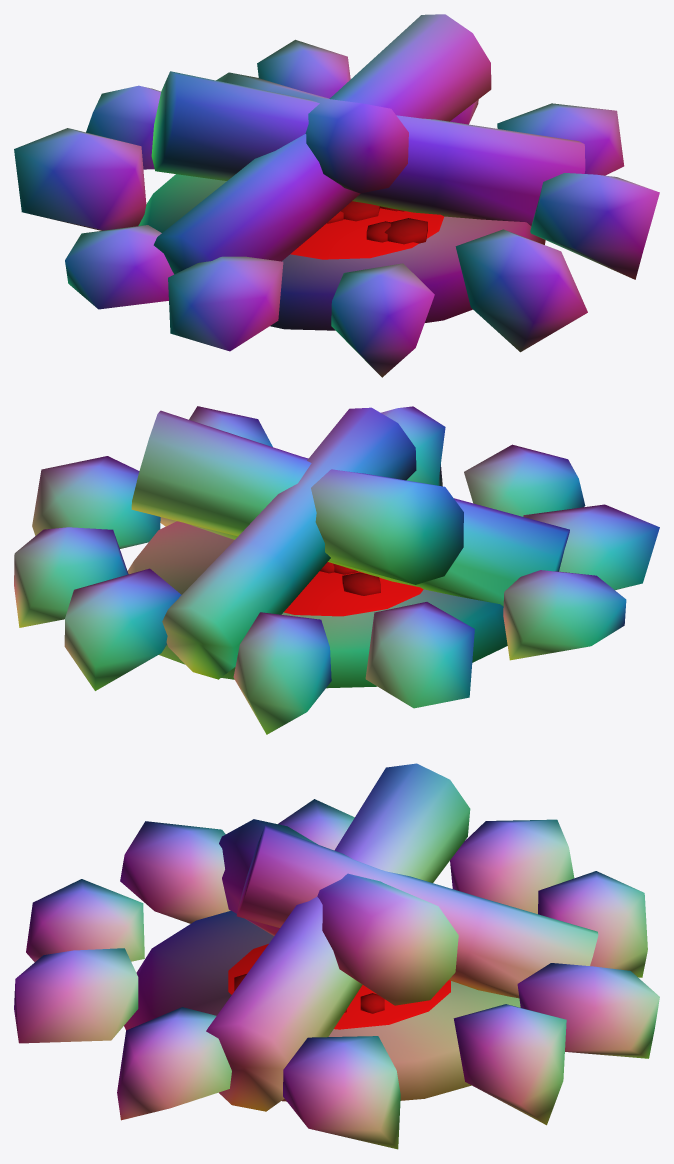
File: SM_Prop_Camp_Campfire.fbx
3 views of the same model, one above another, from view 1: azimuth 30°, elevation 25°; view 2: azimuth 150°, elevation 25°; view 3: azimuth 270°, elevation 25° (orthographic). The views are drawn at different scales.
Parts seen in each view (by area): view 1: SM_Prop_Camp_Campfire; view 2: SM_Prop_Camp_Campfire; view 3: SM_Prop_Camp_Campfire.
Boxes of the visible parts, box(x1,y1,x2,y2) form: SM_Prop_Camp_Campfire: box(14, 14, 659, 377); SM_Prop_Camp_Campfire: box(14, 406, 659, 734); SM_Prop_Camp_Campfire: box(14, 763, 659, 1149).
Bounding box in the file's own units: 1.06 × 0.3263 × 0.9905.
